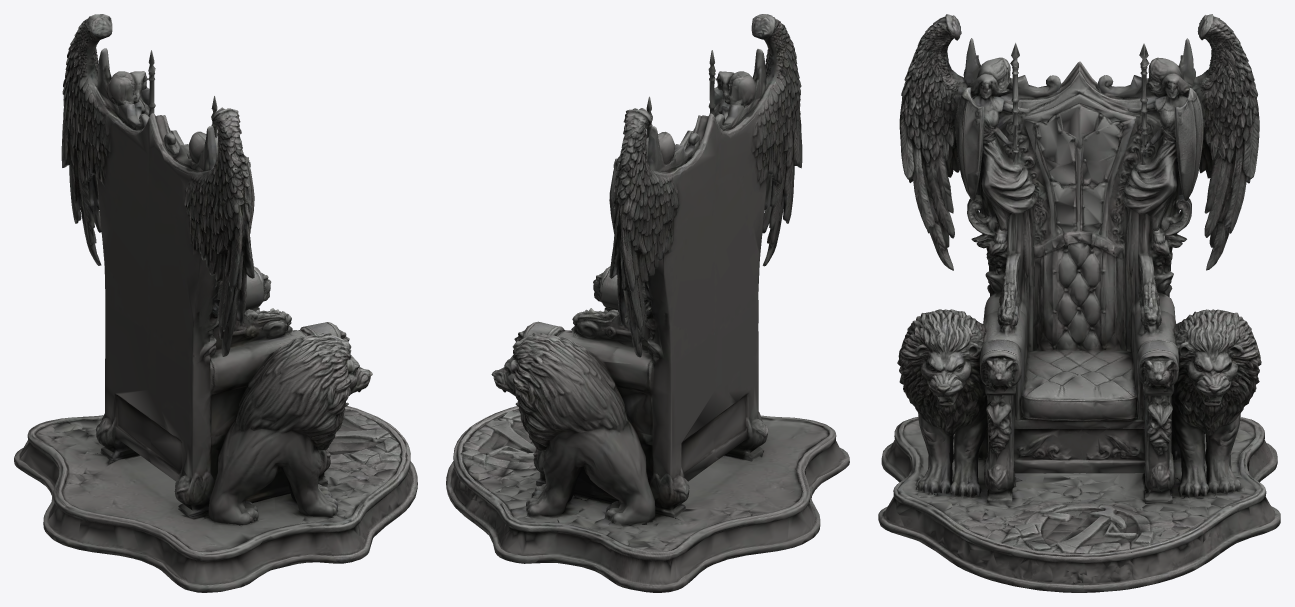
The model's file is throne-snow.glb.
The picture shows the model from 3 angles, left to right: view 1: azimuth 30°, elevation 25°; view 2: azimuth 150°, elevation 25°; view 3: azimuth 270°, elevation 25°; orthographic projection.
Parts seen in each view (by area): view 1: tripo_node_268aa2f8-b2c5-4393-9afa-740de2f549e8; view 2: tripo_node_268aa2f8-b2c5-4393-9afa-740de2f549e8; view 3: tripo_node_268aa2f8-b2c5-4393-9afa-740de2f549e8.
Boxes of the visible parts, left/top/right/bottom form: tripo_node_268aa2f8-b2c5-4393-9afa-740de2f549e8: left=14, top=14, right=417, bottom=592; tripo_node_268aa2f8-b2c5-4393-9afa-740de2f549e8: left=446, top=14, right=849, bottom=592; tripo_node_268aa2f8-b2c5-4393-9afa-740de2f549e8: left=878, top=14, right=1280, bottom=592.
Bounding box in the file's own units: 0.7874 × 0.9775 × 0.7752.
Materials: 1 (1 with a texture image).
